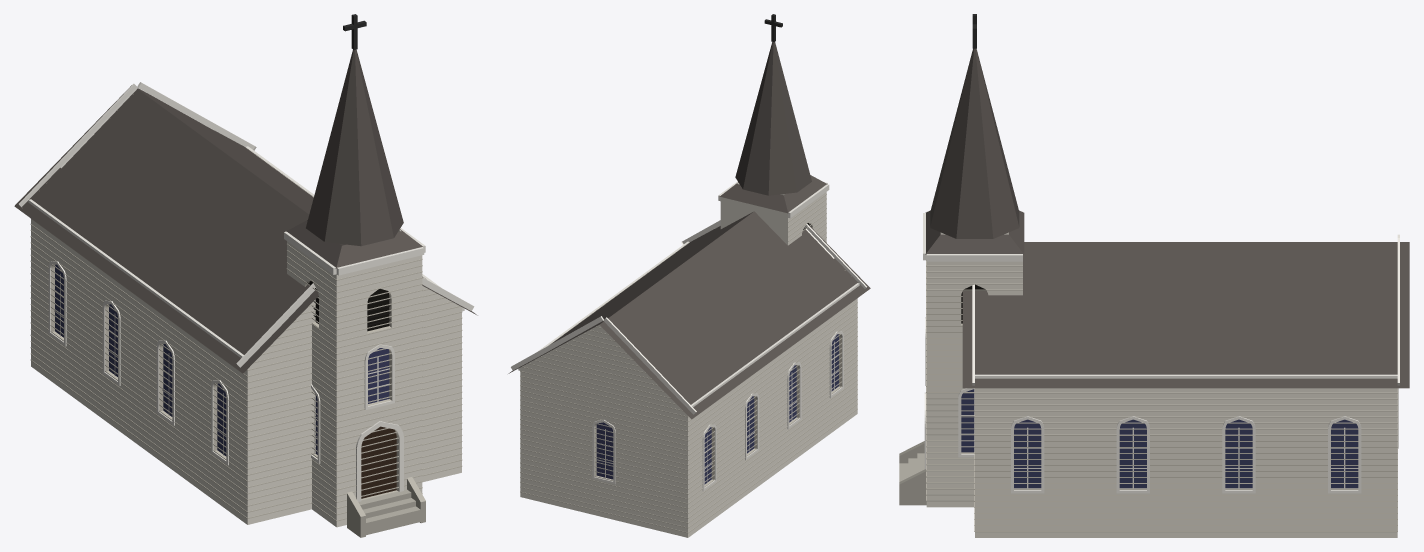
The model's file is ch-first-german-evangelical-1913.glb.
The picture shows the model from 3 angles, left to right: view 1: azimuth 30°, elevation 25°; view 2: azimuth 150°, elevation 25°; view 3: azimuth 270°, elevation 25°; orthographic projection. The views are drawn at different scales.
Visible parts, largest first — view 1: ch_brick, ch_roof, ch_brick2, ch_roof2, ch_trim, ch_stain, ch_conc, ch_door, ch_shadow; view 2: ch_brick, ch_roof, ch_brick2, ch_roof2, ch_trim, ch_stain; view 3: ch_roof, ch_brick, ch_brick2, ch_roof2, ch_trim, ch_stain, ch_conc.
Boxes of the visible parts, x1=… form: ch_brick: x1=31, y1=219, x2=461, y2=527; ch_roof: x1=14, y1=85, x2=477, y2=373; ch_brick2: x1=30, y1=94, x2=462, y2=521; ch_roof2: x1=286, y1=49, x2=423, y2=268; ch_trim: x1=19, y1=82, x2=474, y2=501; ch_stain: x1=55, y1=264, x2=389, y2=456; ch_conc: x1=347, y1=477, x2=425, y2=537; ch_door: x1=361, y1=426, x2=396, y2=498; ch_shadow: x1=309, y1=281, x2=389, y2=331; ch_brick: x1=520, y1=183, x2=857, y2=537; ch_roof: x1=508, y1=211, x2=870, y2=419; ch_brick2: x1=520, y1=183, x2=857, y2=533; ch_roof2: x1=720, y1=42, x2=827, y2=213; ch_trim: x1=511, y1=181, x2=866, y2=491; ch_stain: x1=596, y1=334, x2=838, y2=484; ch_roof: x1=962, y1=242, x2=1409, y2=388; ch_brick: x1=926, y1=232, x2=1397, y2=537; ch_brick2: x1=926, y1=260, x2=1397, y2=532; ch_roof2: x1=925, y1=48, x2=1024, y2=254; ch_trim: x1=923, y1=211, x2=1399, y2=493; ch_stain: x1=961, y1=389, x2=1358, y2=488; ch_conc: x1=899, y1=441, x2=926, y2=505.
Bounding box in the file's own units: 8.84 × 17.35 × 16.9.
